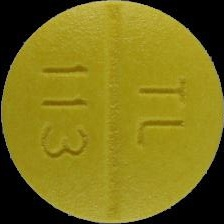33261-141: (0, 0, 224, 224)
